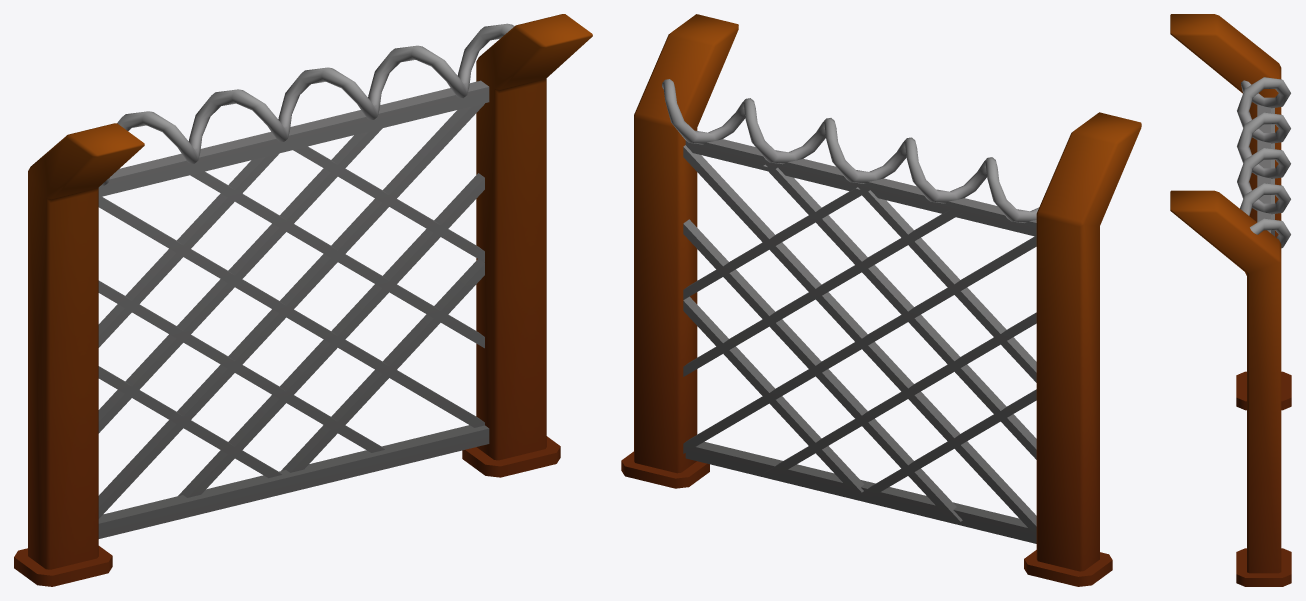
Rendered from Prop_Fence_B_01.fbx.
3 renders of one model, left to right at view 1: azimuth 30°, elevation 25°; view 2: azimuth 150°, elevation 25°; view 3: azimuth 270°, elevation 25°, orthographic. The views are drawn at different scales.
Visible parts, largest first — view 1: Prop_Fence_B_01; view 2: Prop_Fence_B_01; view 3: Prop_Fence_B_01.
Part boxes in pixels (x1,y1,x2,y2): Prop_Fence_B_01: (14,14,592,586); Prop_Fence_B_01: (621,14,1141,586); Prop_Fence_B_01: (1170,14,1291,586).
Size of the model in its own units: 205 by 173 by 51.09.
